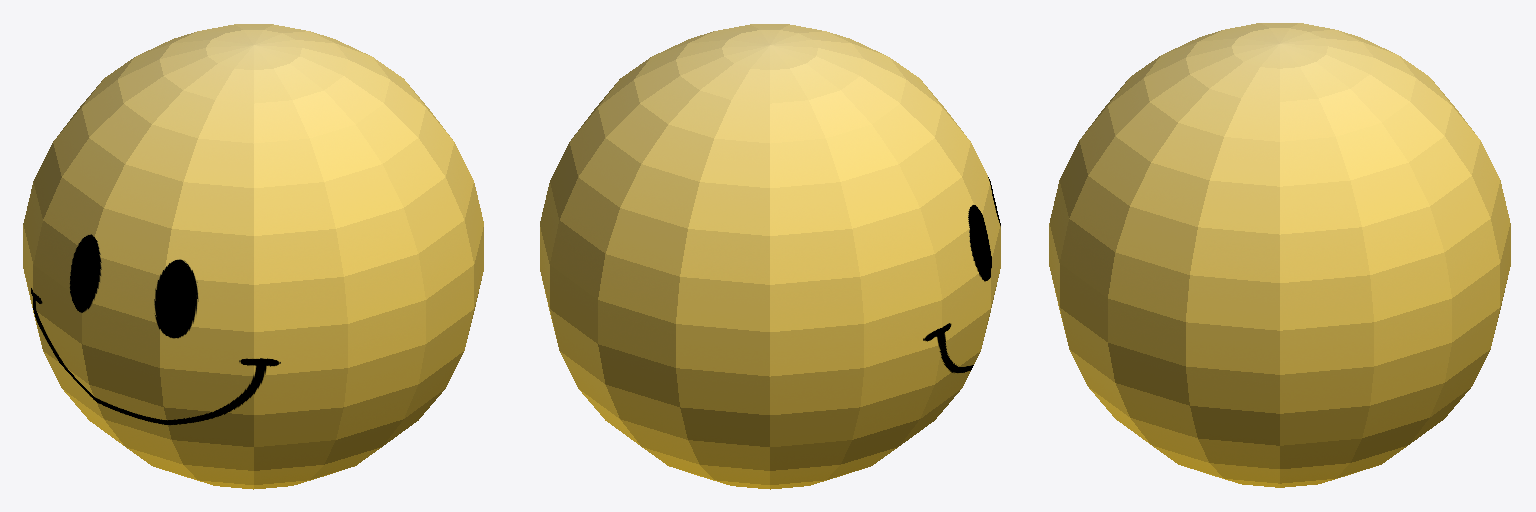
3 views of the same model, side by side, from view 1: azimuth 30°, elevation 25°; view 2: azimuth 150°, elevation 25°; view 3: azimuth 270°, elevation 25° (orthographic).
Visible parts, largest first — view 1: Smiley; view 2: Smiley; view 3: Smiley.
Part boxes in pixels (x1,y1,x2,y2): Smiley: (23, 24, 483, 489); Smiley: (540, 24, 1000, 489); Smiley: (1049, 23, 1510, 487).
Bounding box in the file's own units: 197 × 200 × 198.
1 materials, 1 textured.